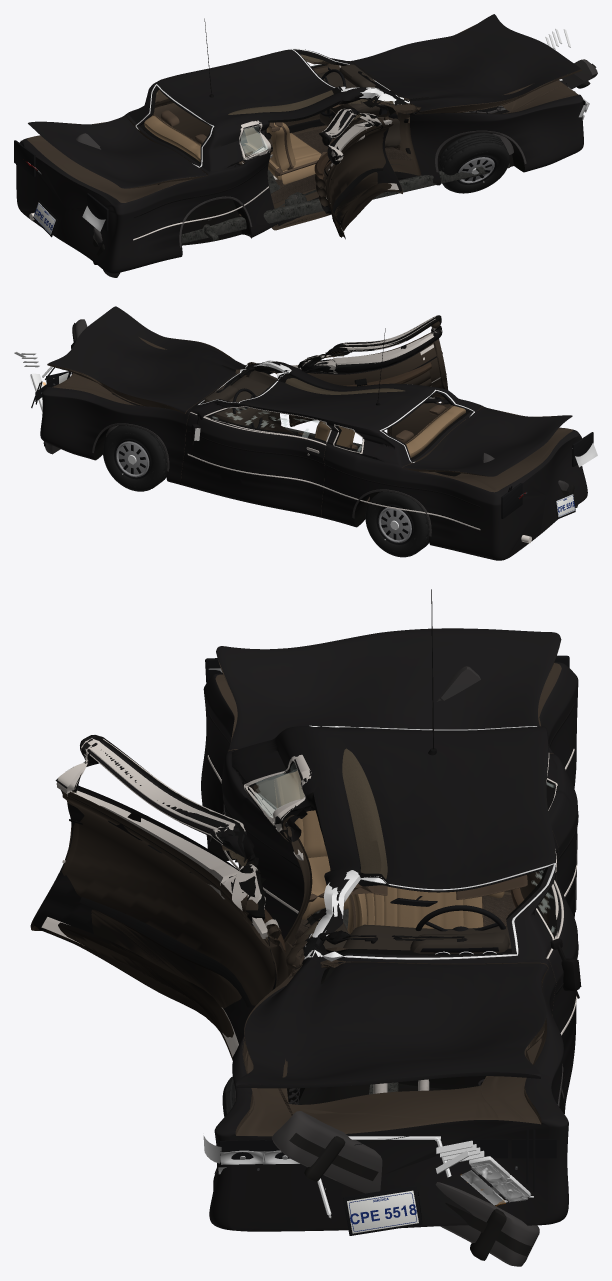
File: coupe84_side_R_d3.glb
3 renders of one model, top to bottom at view 1: azimuth 30°, elevation 25°; view 2: azimuth 150°, elevation 25°; view 3: azimuth 270°, elevation 25°, orthographic. The views are drawn at different scales.
Visible parts, largest first — view 1: Body, Hood, Trunk, Interior, Door_FR, Wheel_FR_mesh, Underbody, Trim_FR, Ends, Trim, Glass, Bumper_F (+2 smaller); view 2: Body, Hood, Door_FL, Trunk, Door_FR, Interior, Wheel_FL_mesh, Wheel_RL_mesh, Trim_FR, Ends, Trim, Trim_FL (+4 smaller); view 3: Body, Door_FR, Hood, Trunk, Interior, Ends, Bumper_F, Trim_FR, Glass, Door_FL, Trim, Trim_FL (+1 smaller).
Boxes of the visible parts, x1=… form: Body: x1=16, y1=49, x2=583, y2=273; Hood: x1=350, y1=14, x2=581, y2=116; Trunk: x1=28, y1=115, x2=207, y2=188; Interior: x1=144, y1=64, x2=401, y2=184; Door_FR: x1=319, y1=107, x2=402, y2=239; Wheel_FR_mesh: x1=439, y1=132, x2=509, y2=193; Underbody: x1=29, y1=162, x2=509, y2=243; Trim_FR: x1=314, y1=108, x2=398, y2=234; Ends: x1=14, y1=28, x2=589, y2=237; Trim: x1=133, y1=18, x2=526, y2=247; Glass: x1=135, y1=48, x2=409, y2=167; Bumper_F: x1=559, y1=59, x2=597, y2=89; Body: x1=40, y1=361, x2=587, y2=560; Hood: x1=47, y1=306, x2=244, y2=413; Door_FL: x1=181, y1=405, x2=331, y2=517; Trunk: x1=403, y1=406, x2=572, y2=476; Door_FR: x1=289, y1=315, x2=447, y2=426; Interior: x1=204, y1=370, x2=465, y2=457; Wheel_FL_mesh: x1=103, y1=425, x2=166, y2=491; Wheel_RL_mesh: x1=365, y1=491, x2=429, y2=557; Trim_FR: x1=292, y1=315, x2=446, y2=397; Ends: x1=14, y1=351, x2=597, y2=519; Trim: x1=92, y1=328, x2=480, y2=536; Trim_FL: x1=187, y1=406, x2=331, y2=487; Body: x1=201, y1=662, x2=578, y2=1231; Door_FR: x1=30, y1=735, x2=288, y2=1060; Hood: x1=236, y1=958, x2=548, y2=1088; Trunk: x1=216, y1=628, x2=561, y2=753; Interior: x1=274, y1=770, x2=527, y2=954; Ends: x1=203, y1=655, x2=569, y2=1235; Bumper_F: x1=271, y1=1111, x2=539, y2=1266; Trim_FR: x1=41, y1=738, x2=285, y2=1056; Glass: x1=244, y1=725, x2=557, y2=961; Door_FL: x1=520, y1=832, x2=577, y2=1098; Trim: x1=207, y1=589, x2=578, y2=1174; Trim_FL: x1=511, y1=780, x2=581, y2=1035.
Bounding box in the file's own units: 5.55 × 1.97 × 2.49.
34 materials, 5 textured.
